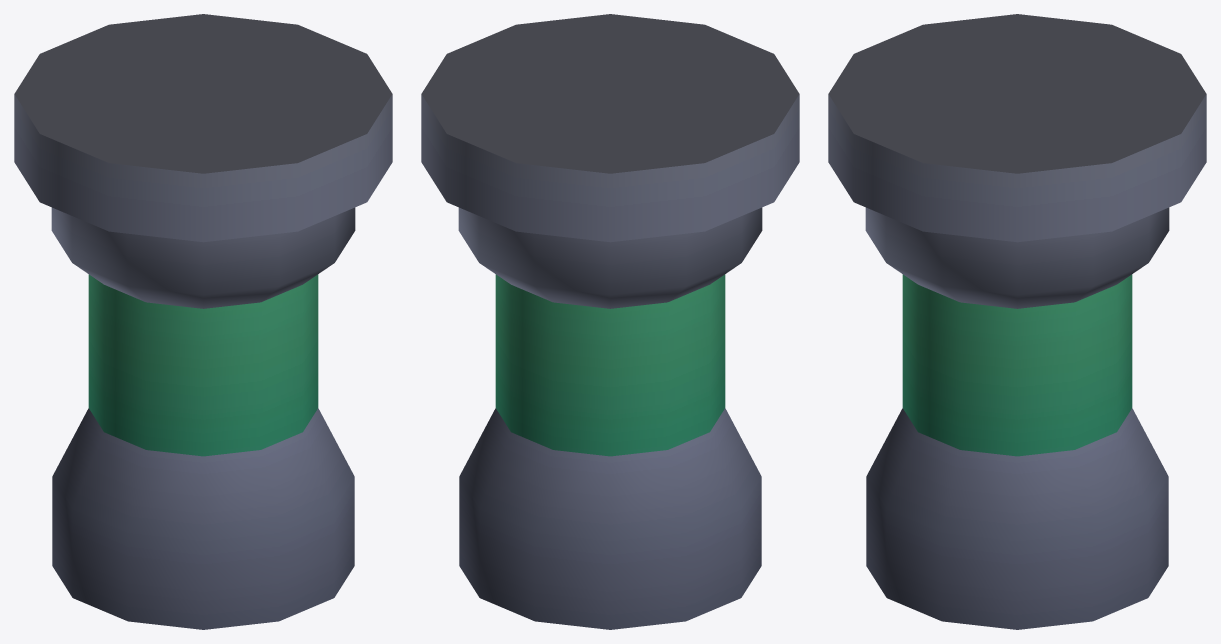
Rendered from store_column.glb.
3 renders of one model, left to right at view 1: azimuth 30°, elevation 25°; view 2: azimuth 150°, elevation 25°; view 3: azimuth 270°, elevation 25°, orthographic.
Visible parts, largest first — view 1: column; view 2: column; view 3: column.
Part boxes in pixels (x1,y1,x2,y2): column: (14, 14, 392, 629); column: (421, 14, 799, 629); column: (828, 14, 1206, 629).
Size of the model in its own units: 1.45 by 2 by 1.45.
1 material, 1 textured.
